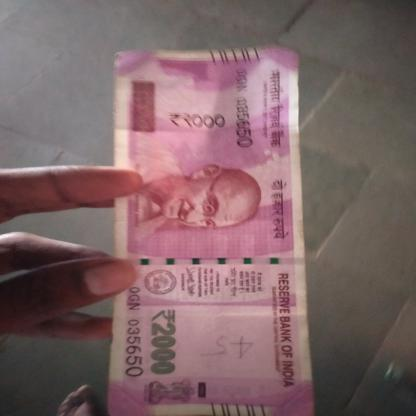New2000Front: (120, 49, 301, 416)
